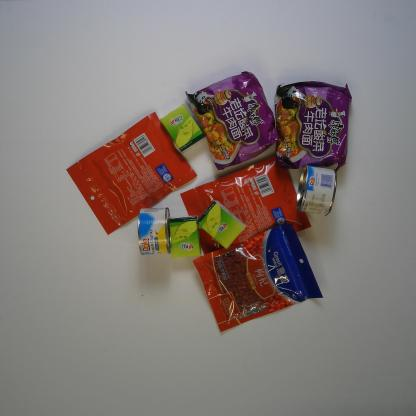Canned Food: (295, 163, 338, 217), (136, 207, 171, 258)
Dried Fruit: (66, 112, 199, 236), (192, 221, 324, 334), (179, 154, 313, 258)
Instant Noodles: (185, 70, 278, 172), (274, 78, 352, 176)
Tissue: (195, 199, 247, 250), (157, 104, 205, 152), (168, 215, 202, 258)
